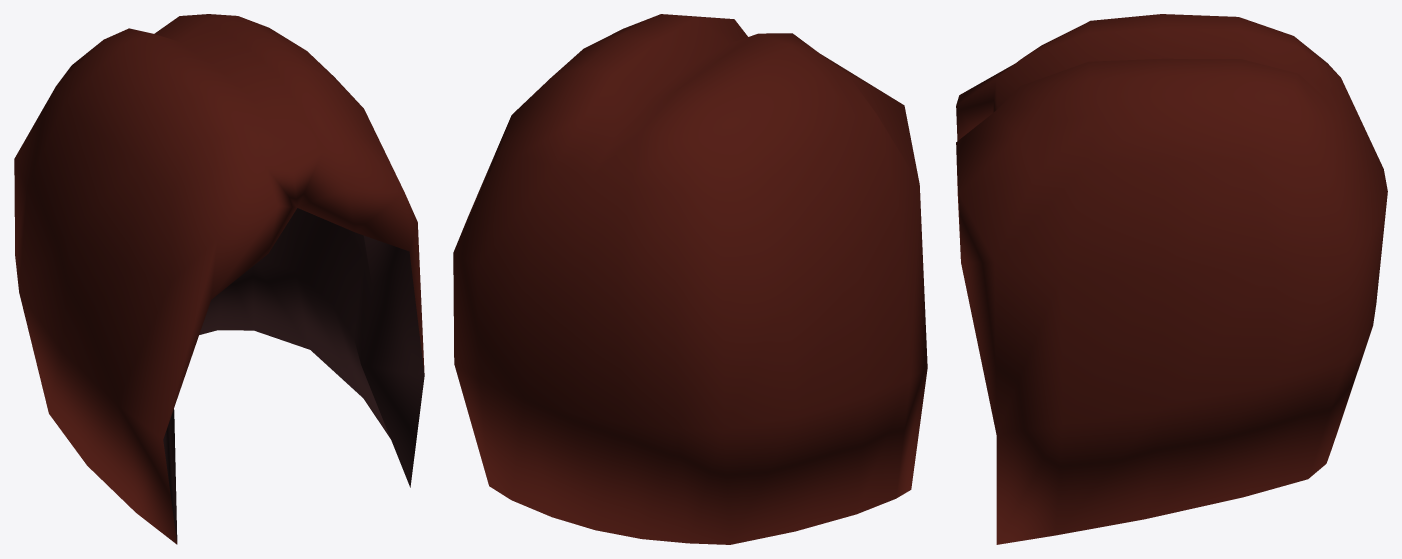
Rendered from hair_bobcut.glb.
3 renders of one model, left to right at view 1: azimuth 30°, elevation 25°; view 2: azimuth 150°, elevation 25°; view 3: azimuth 270°, elevation 25°, orthographic. The views are drawn at different scales.
Visible parts, largest first — view 1: hairBobcut; view 2: hairBobcut; view 3: hairBobcut.
Part boxes in pixels (x1,y1,x2,y2): hairBobcut: [14, 14, 424, 544]; hairBobcut: [453, 14, 927, 544]; hairBobcut: [956, 14, 1387, 544].
Size of the model in its own units: 1.02 by 1.28 by 1.14.
